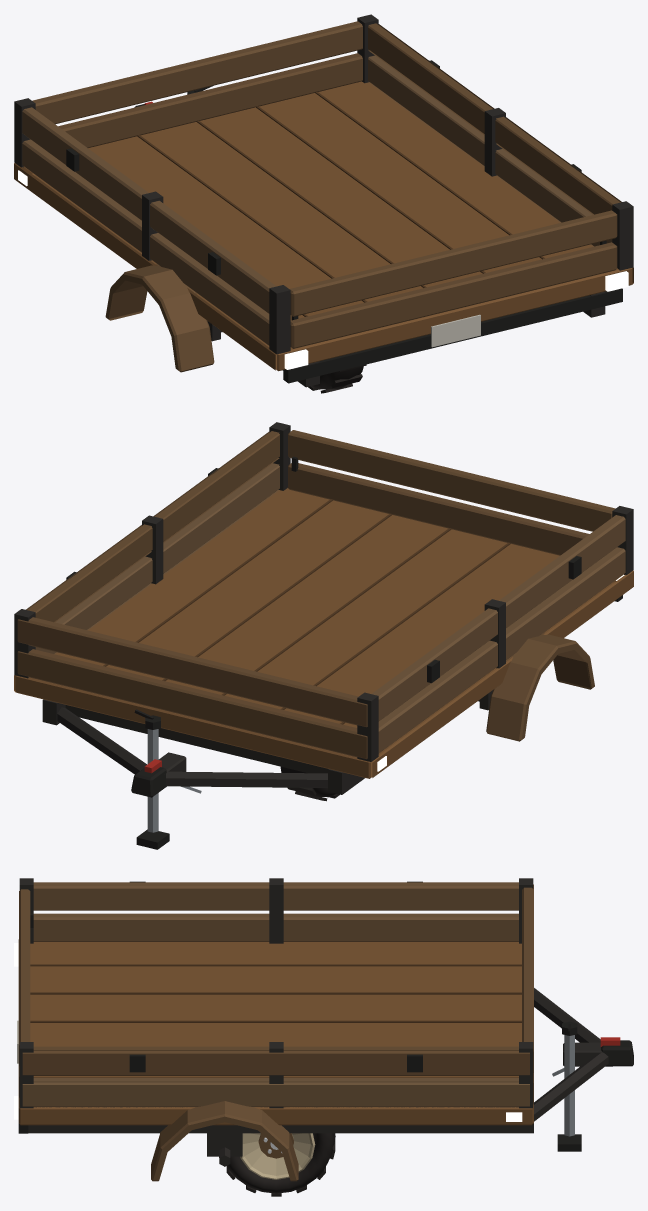
The model's file is PonyTrailer_LoggingRig.glb.
The picture shows the model from 3 angles, top to bottom: view 1: azimuth 30°, elevation 25°; view 2: azimuth 150°, elevation 25°; view 3: azimuth 270°, elevation 25°; orthographic projection. The views are drawn at different scales.
Visible parts, largest first — view 1: Bed, Body, Lights, Wheel; view 2: Bed, Body, Hitch; view 3: Bed, Body, Hitch, Wheel.
Part boxes in pixels (bbox=[...]): Bed: bbox=[14, 14, 633, 371]; Body: bbox=[105, 264, 622, 387]; Lights: bbox=[18, 170, 628, 369]; Wheel: bbox=[308, 364, 366, 393]; Bed: bbox=[14, 422, 633, 778]; Body: bbox=[42, 595, 622, 794]; Hitch: bbox=[57, 707, 327, 849]; Bed: bbox=[18, 878, 533, 1125]; Body: bbox=[17, 1020, 533, 1181]; Hitch: bbox=[534, 988, 633, 1151]; Wheel: bbox=[219, 1133, 335, 1196].
Bounding box in the file's own units: 11.87 × 6.32 × 15.64.
